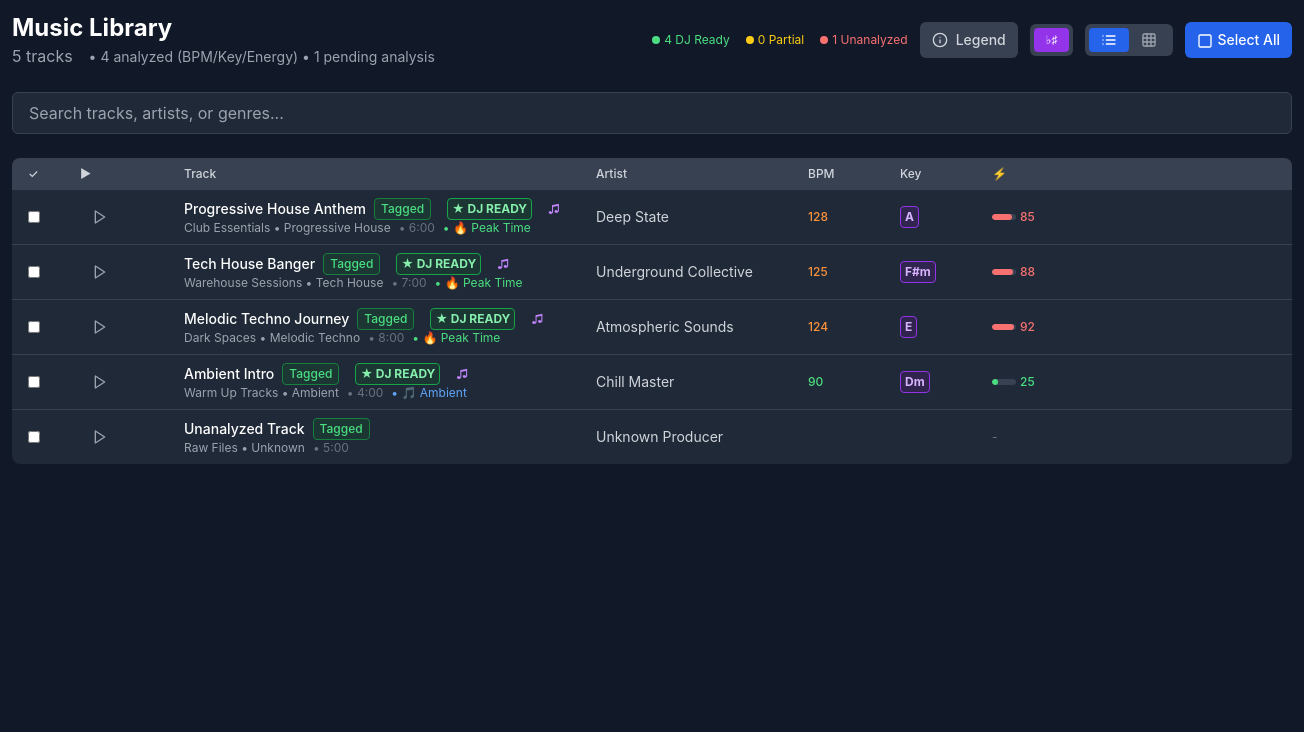
LibraryView DJ Features › DJ View Modes › switches between view modes correctly
Expected: the text "Progressive House Anthem" is shown, [184,200,366,217]
Expected: the text "✓" is shown, [28,166,39,181]
Switch to grid view
Click the button titled "Grid View" at (1149, 40), box [1129,28,1169,52]
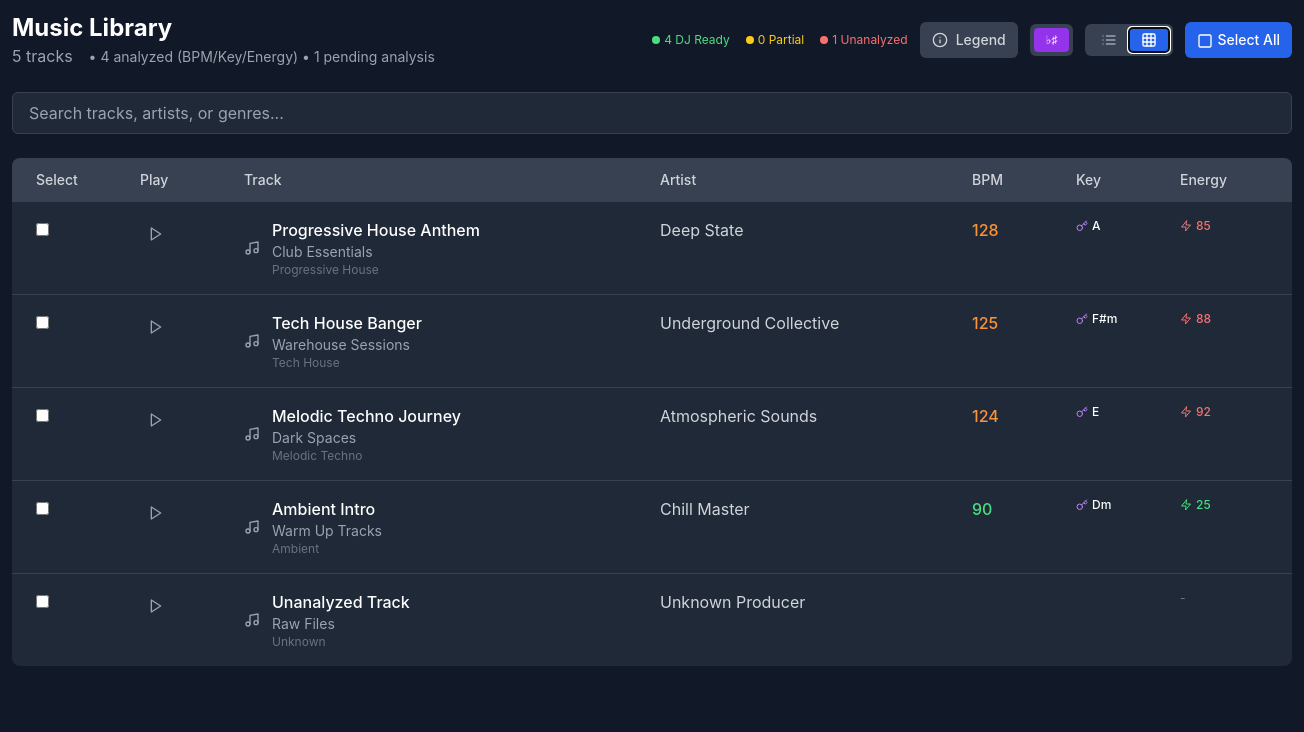
Expected: the text "Select" is shown, [36,171,78,188]
Expected: the text "Play" is shown, [140,171,168,188]
